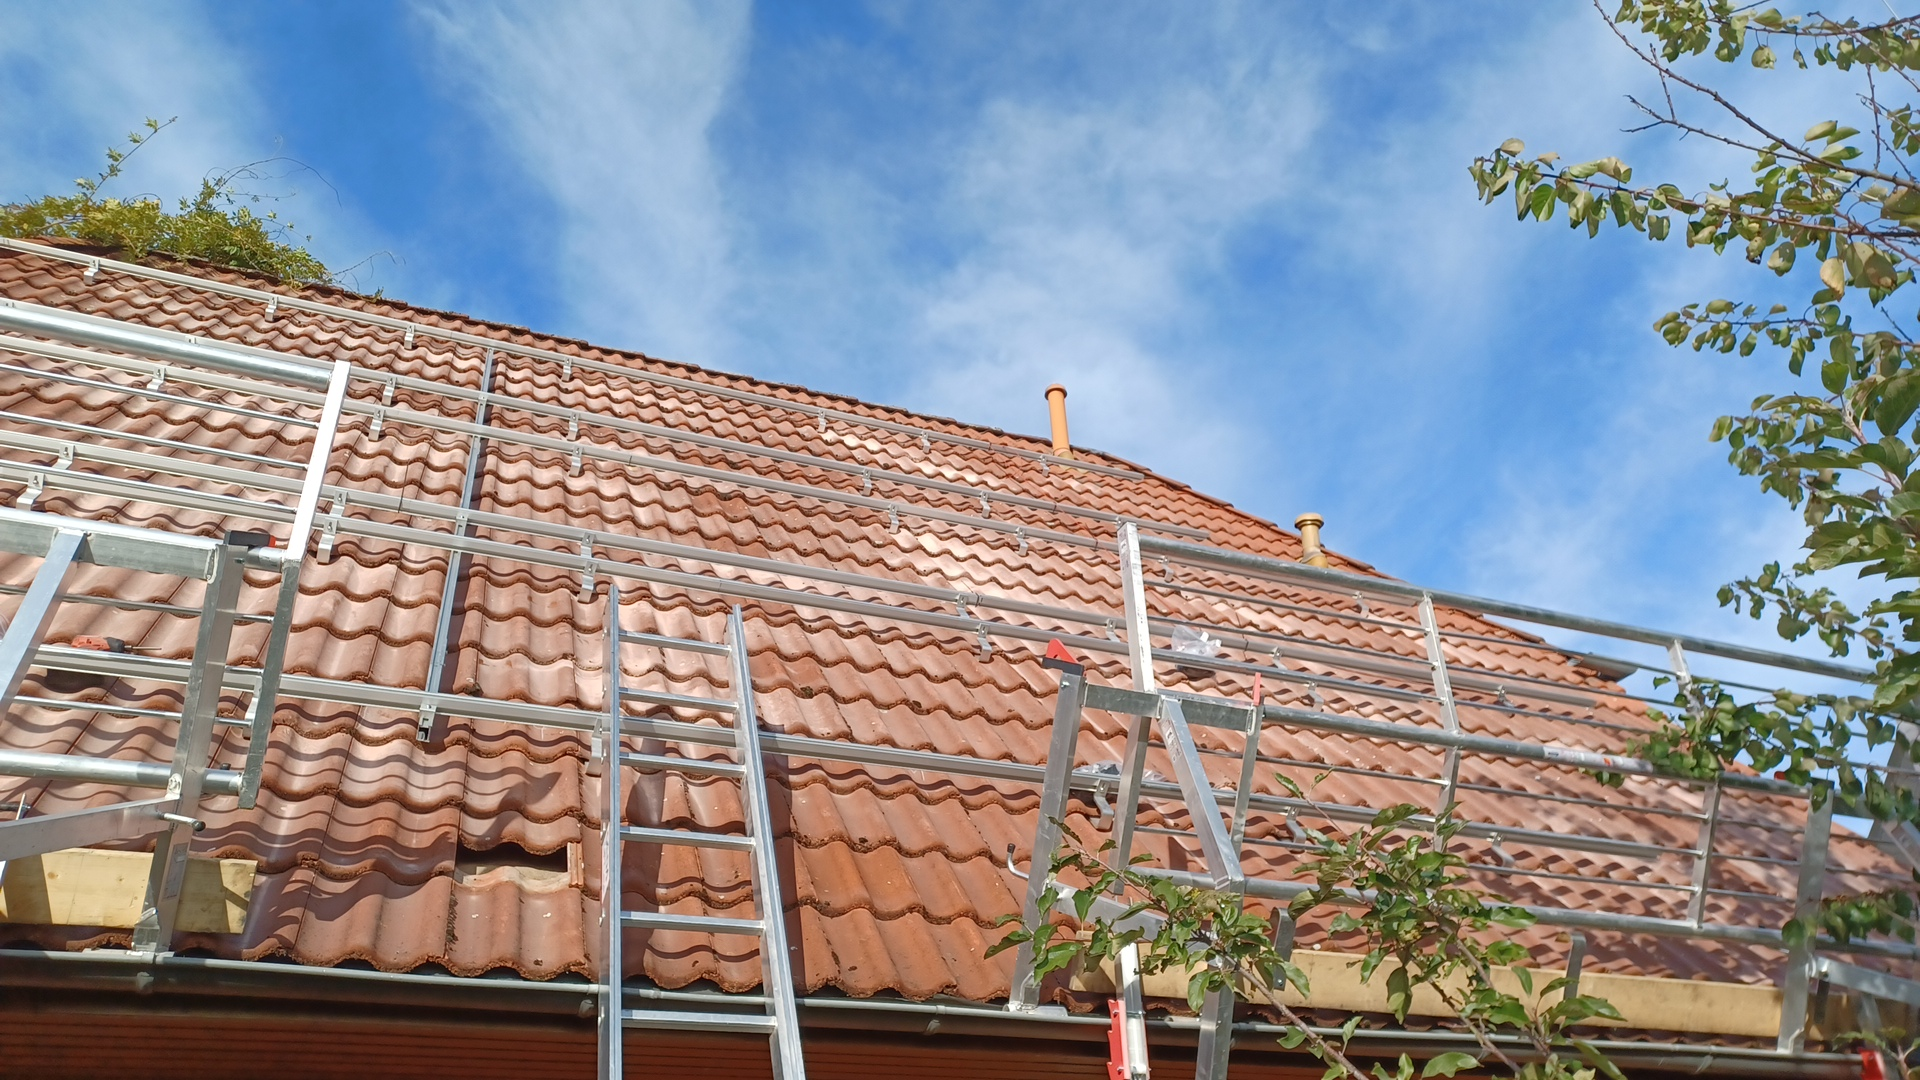hook: (1087, 778, 1114, 829), (243, 675, 264, 738), (1484, 831, 1513, 874), (16, 471, 44, 512), (1283, 806, 1305, 852), (584, 717, 601, 775), (316, 517, 338, 563), (578, 560, 597, 604), (50, 442, 75, 468), (976, 622, 992, 662), (1305, 680, 1324, 712), (146, 367, 164, 400), (368, 407, 385, 440), (328, 489, 347, 516), (1156, 554, 1174, 582), (1498, 684, 1519, 707), (83, 257, 100, 284), (382, 375, 397, 404), (1014, 527, 1029, 556), (568, 444, 582, 476), (1269, 647, 1288, 669), (1354, 591, 1369, 617), (858, 468, 872, 496), (579, 531, 593, 556), (887, 502, 899, 533), (264, 294, 277, 320), (978, 491, 992, 517), (567, 411, 579, 440), (955, 593, 969, 617), (1105, 618, 1120, 641), (560, 356, 572, 382), (404, 323, 414, 349), (815, 409, 825, 433), (920, 430, 930, 454), (1040, 454, 1048, 477), (182, 335, 196, 344), (3, 301, 15, 307), (181, 363, 193, 369), (1116, 516, 1122, 527)
